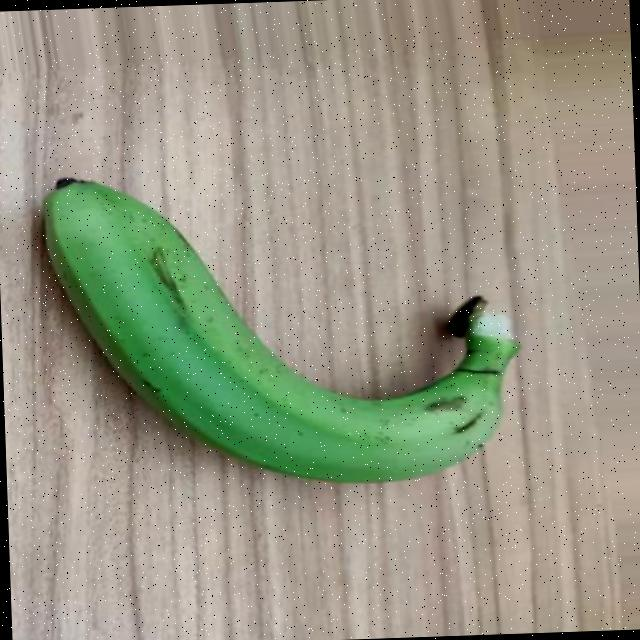Unripe: (37, 162, 524, 494)
